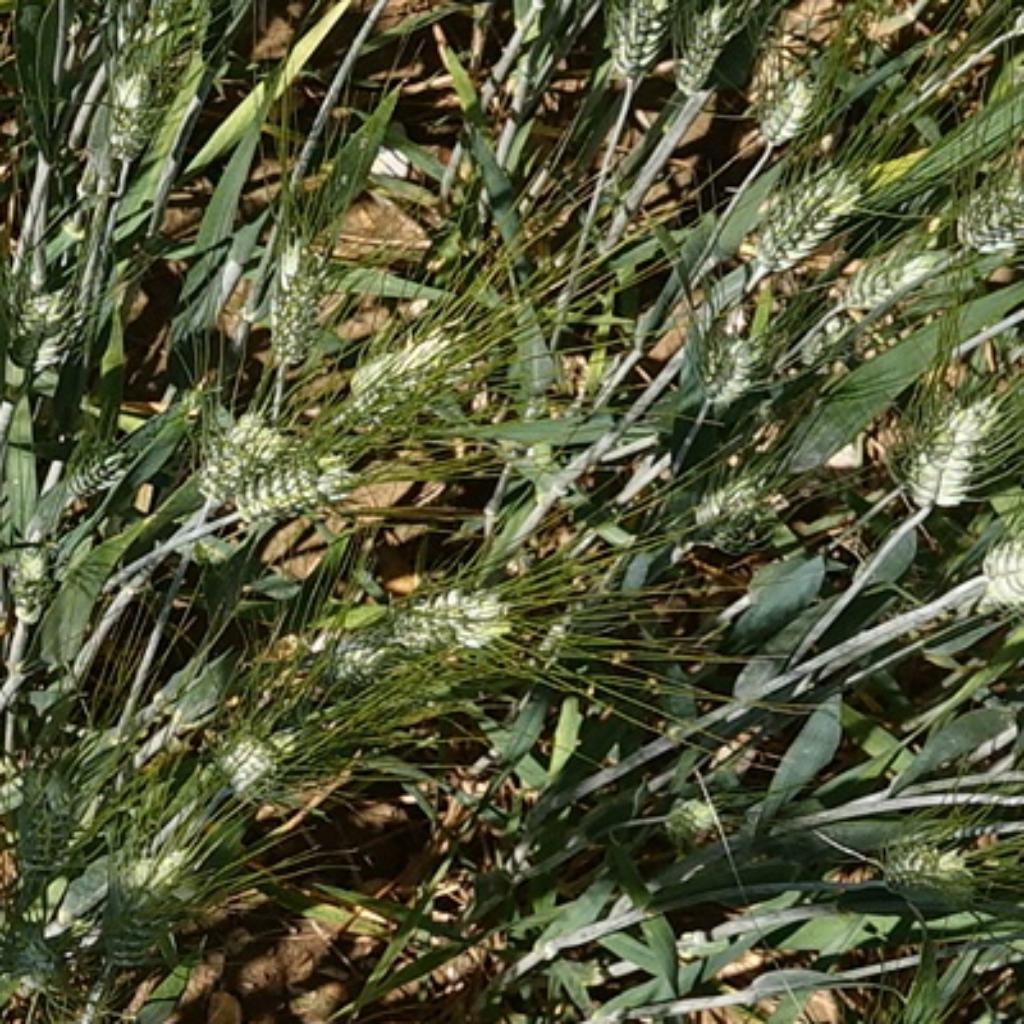0-0: (335, 302, 504, 440), (670, 276, 778, 404), (753, 164, 865, 268), (839, 243, 960, 335), (199, 696, 304, 796), (195, 404, 281, 515), (392, 578, 512, 652), (593, 2, 696, 87), (268, 243, 337, 363), (90, 869, 176, 963), (5, 909, 99, 994), (245, 458, 354, 528), (94, 70, 175, 164), (657, 2, 744, 87), (657, 2, 739, 92), (690, 458, 773, 543), (13, 281, 89, 372), (17, 775, 83, 878), (319, 624, 417, 691), (871, 835, 975, 897), (54, 419, 128, 503), (950, 187, 1022, 264), (912, 440, 979, 509), (753, 80, 819, 144), (940, 377, 1000, 443), (8, 542, 59, 615), (667, 795, 723, 839)
